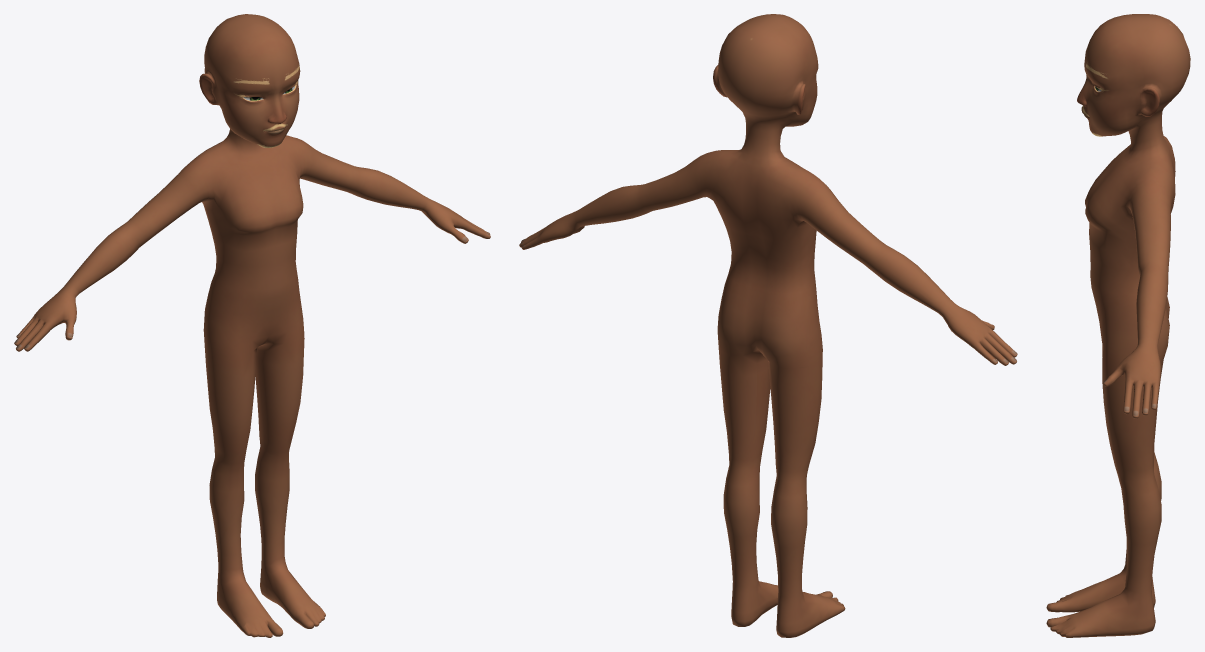
The model's file is frame_0006.glb.
3 views of the same model, side by side, from view 1: azimuth 30°, elevation 25°; view 2: azimuth 150°, elevation 25°; view 3: azimuth 270°, elevation 25° (orthographic). The views are drawn at different scales.
Visible parts, largest first — view 1: frame_0006_head_geo; view 2: frame_0006_head_geo; view 3: frame_0006_head_geo.
Boxes of the visible parts, bbox=[...] form: frame_0006_head_geo: bbox=[14, 14, 490, 637]; frame_0006_head_geo: bbox=[519, 14, 1017, 637]; frame_0006_head_geo: bbox=[1046, 14, 1190, 637].
Size of the model in its own units: 1.28 by 1.5 by 0.3253.
3 materials, 3 textured.
